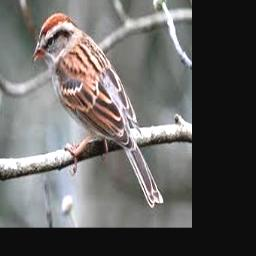Sparrow: (32, 12, 163, 209)
